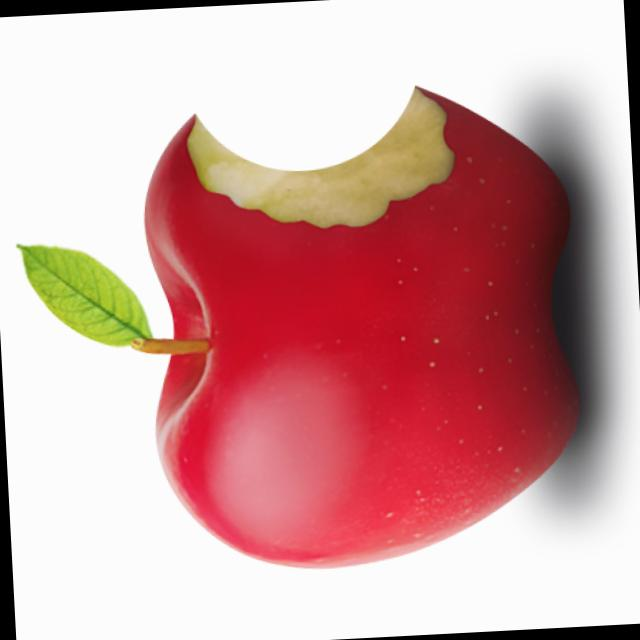apple: (127, 210, 615, 595)
